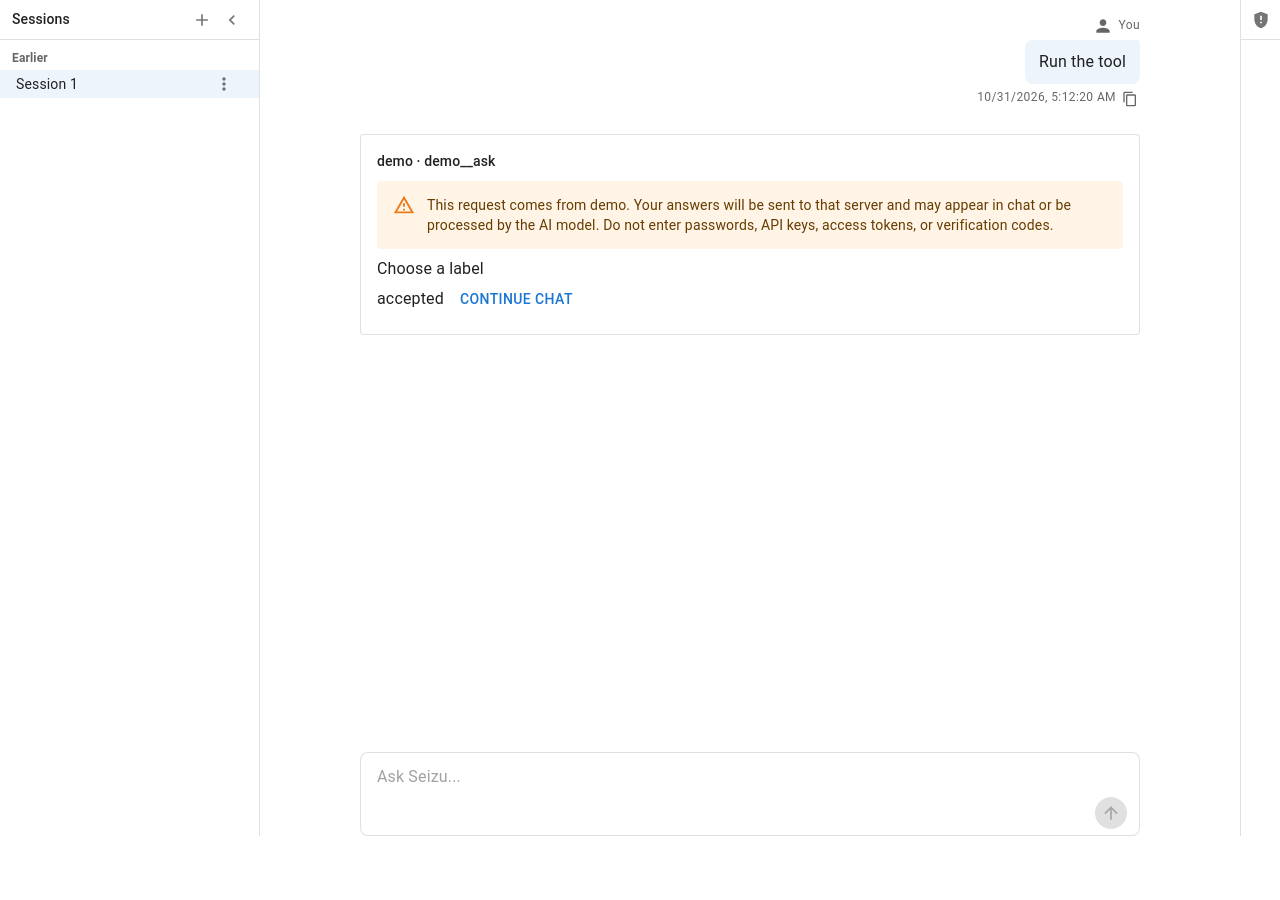
Test case: ChatInterface › brings the card back when the answer was never delivered
Click the button "Continue chat".
click(516, 299)  # box 452,281 -> 581,318
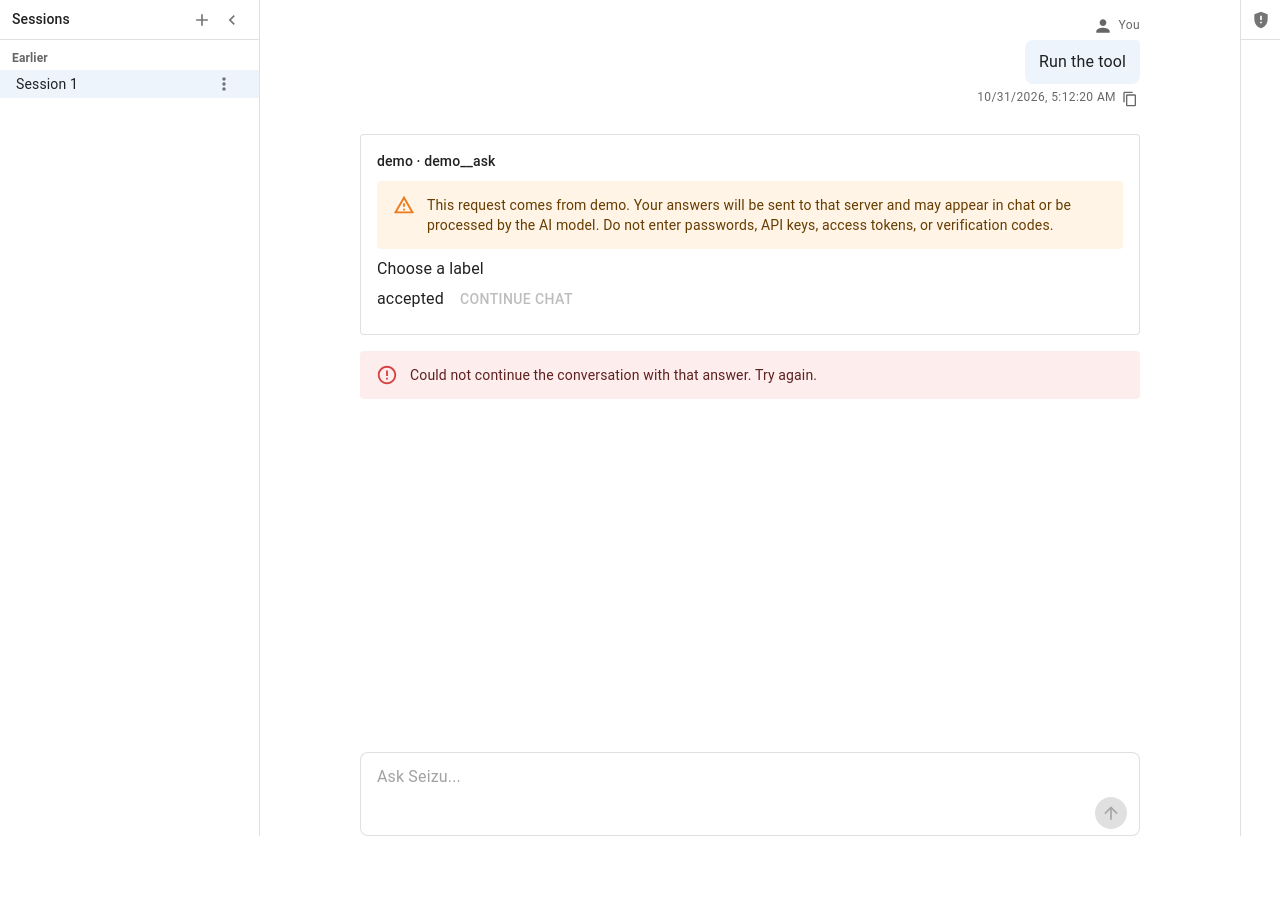
Result: the text "Could not continue the conversation with that answer. Try again." is shown at 410,366 -> 817,382
